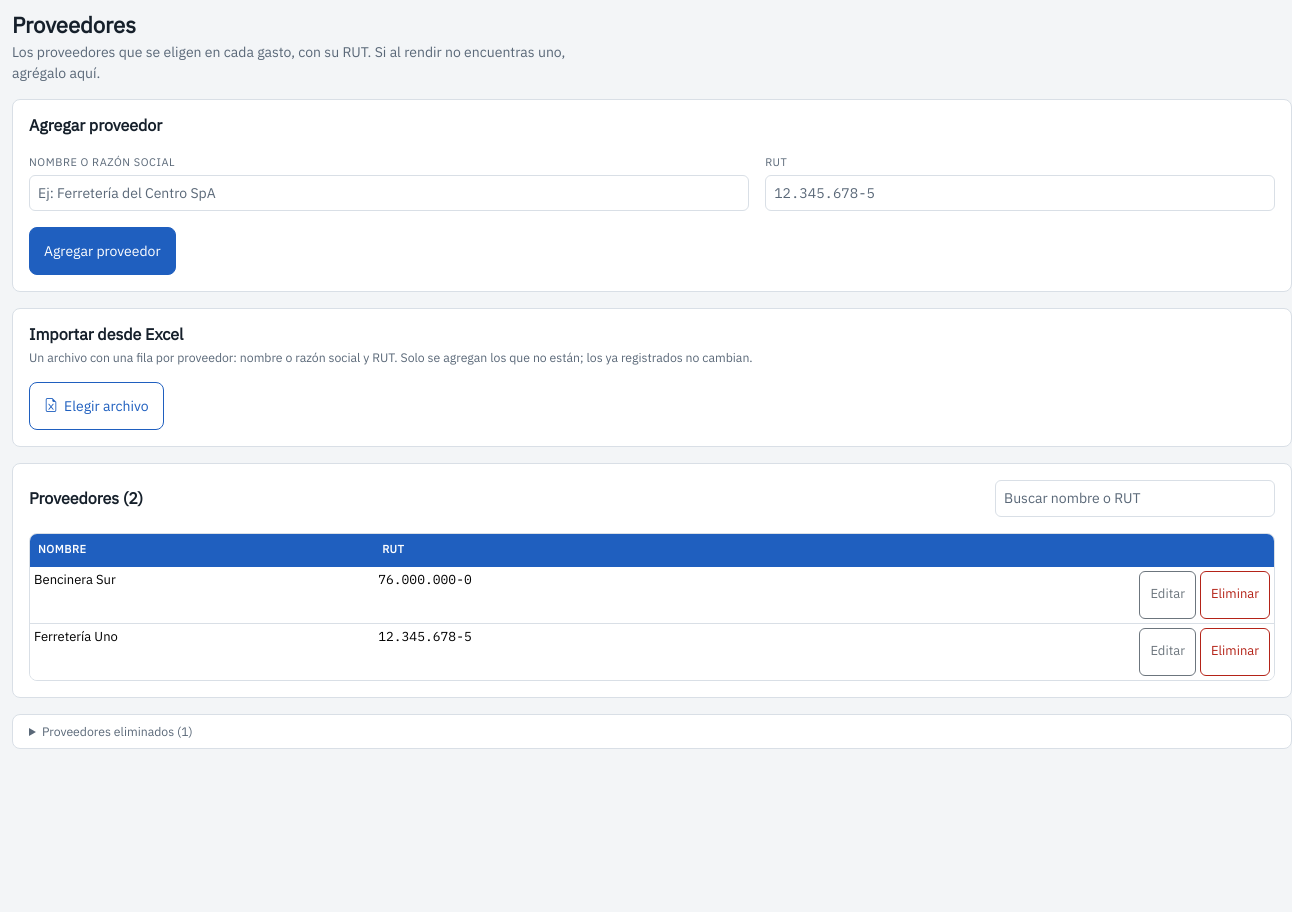
ProveedoresView: tesorería › edita en línea
Step 1. Click the button with aria-label "Editar Ferretería Uno" → (1168, 652), box x1=1139 y1=628 x2=1196 y2=676
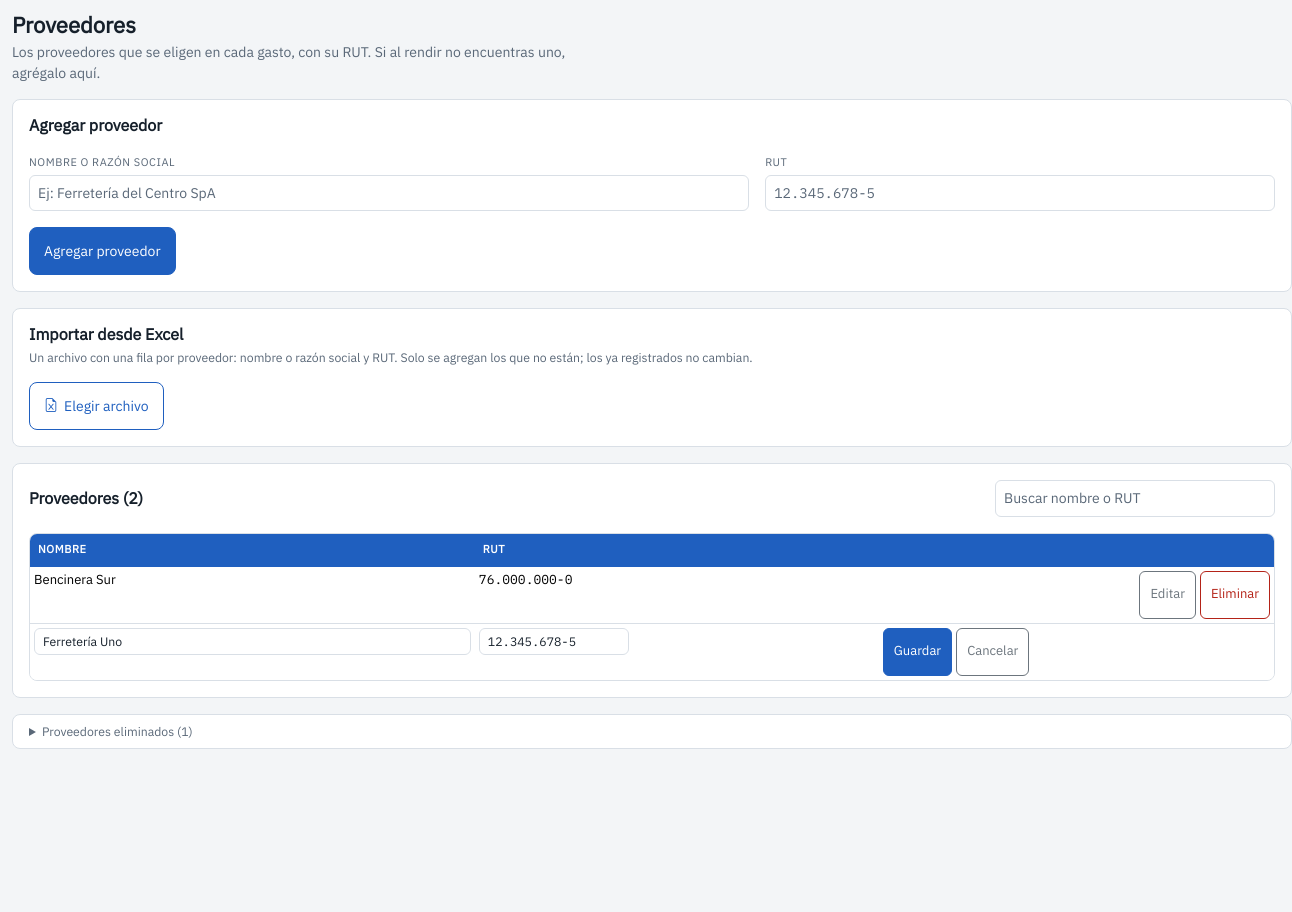
Step 2. Replace the text in the field named "Nombre de Ferretería Uno" with "Ferretería Uno SpA" → (252, 642), box x1=34 y1=628 x2=471 y2=655
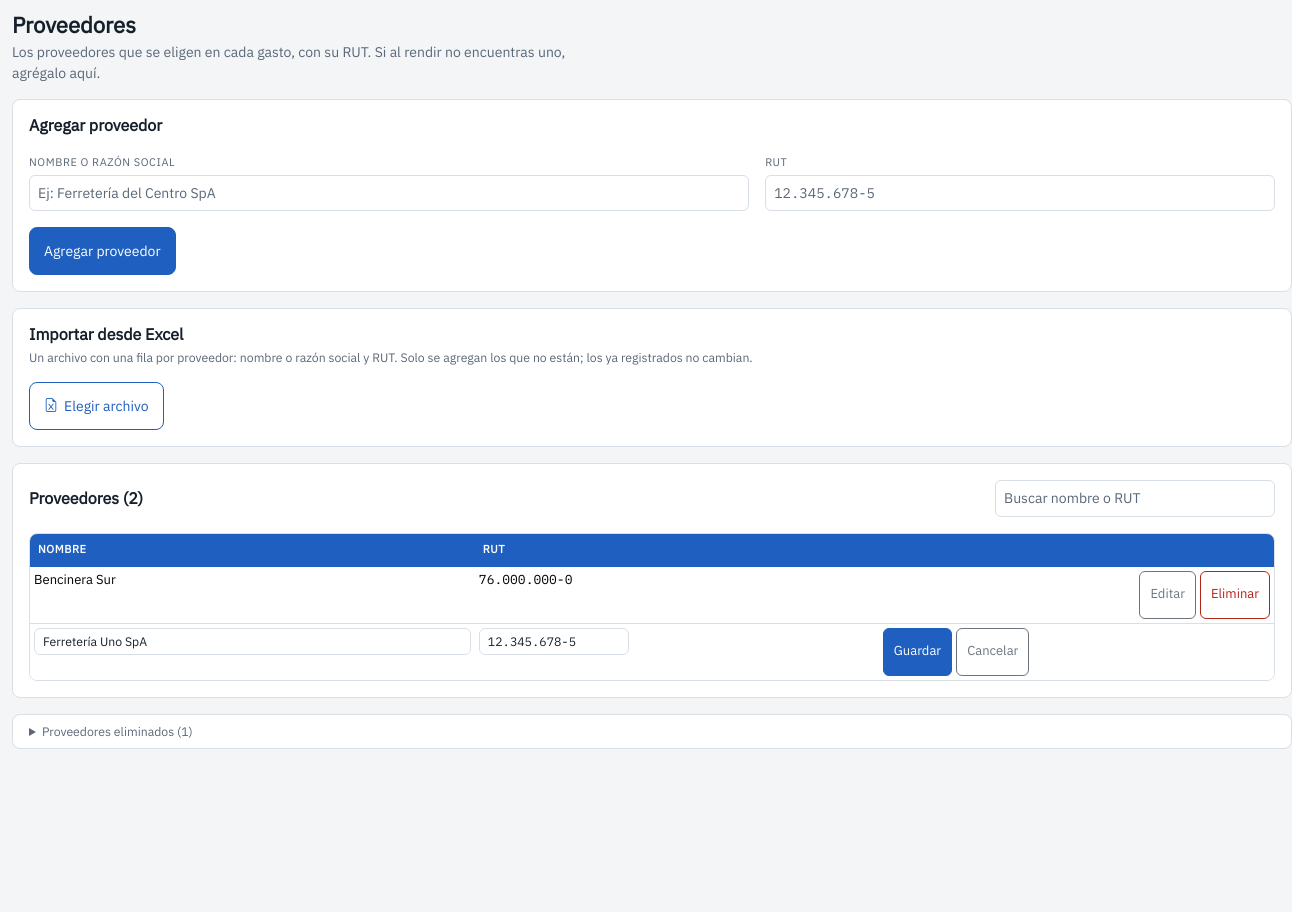
Step 3. Click the button "Guardar" → (917, 652), box x1=883 y1=628 x2=952 y2=676
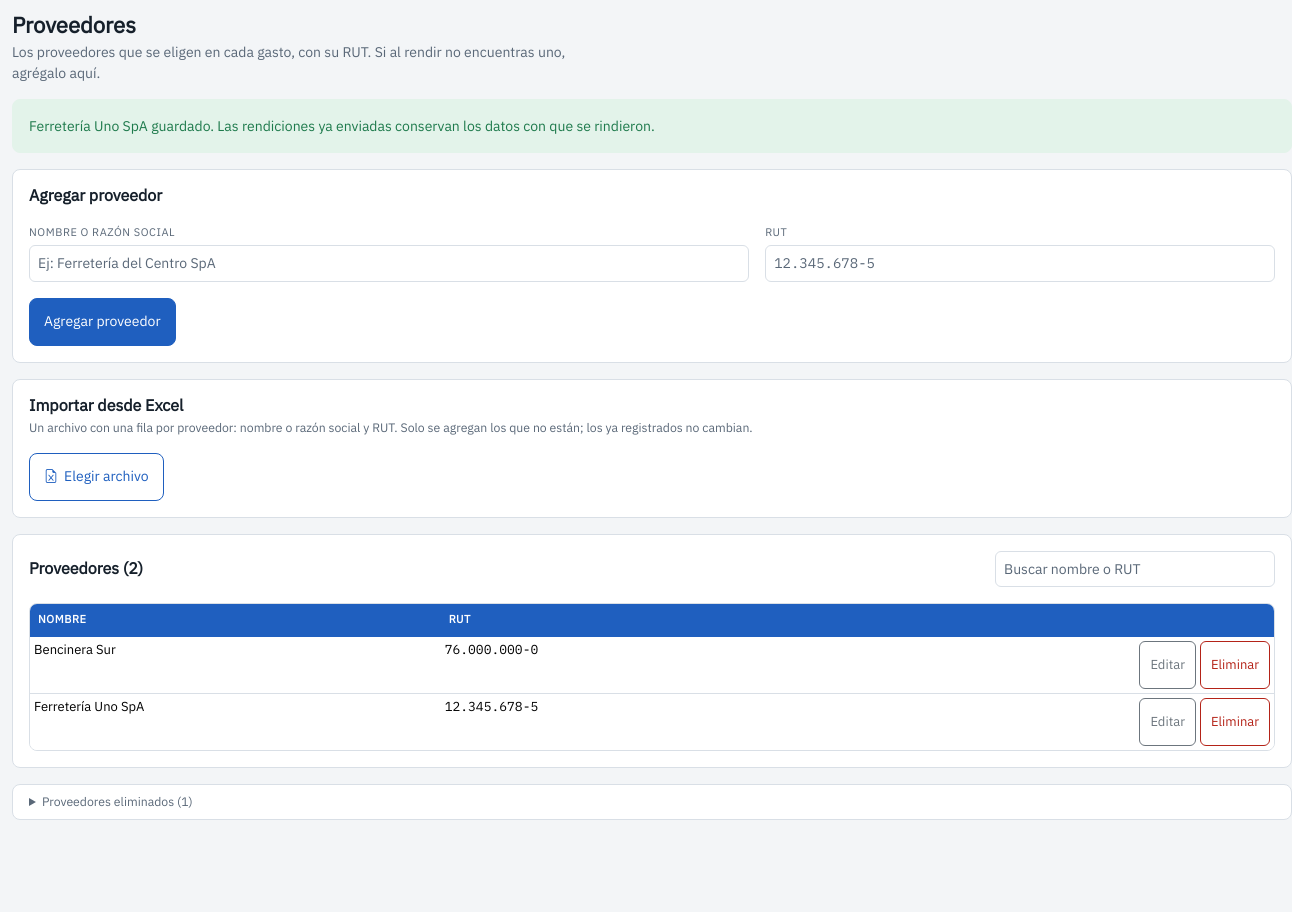
Check: the message shows "Ferretería Uno SpA", box x1=29 y1=117 x2=655 y2=135
